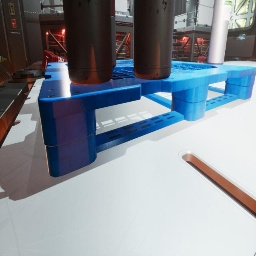0: (207, 0, 232, 64), (133, 0, 134, 63), (0, 56, 7, 62)
EmergencyPhone ,: (7, 0, 15, 15)
FireAlarm ,: (11, 19, 17, 28), (127, 1, 129, 4)
FireExtinguisher ]: (196, 54, 208, 64)
FirstAidBox ,: (42, 48, 68, 70)
NitrogenTank ,: (62, 0, 113, 85), (133, 0, 175, 80), (111, 0, 116, 68)
